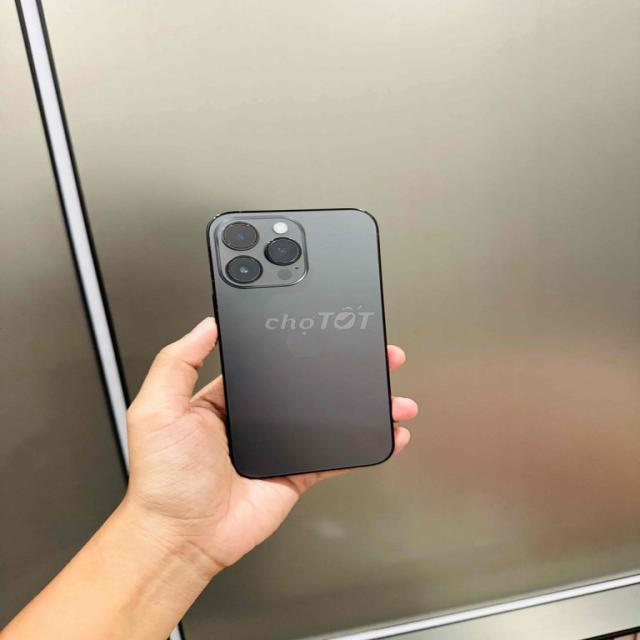gen_14: (210, 205, 407, 480)
